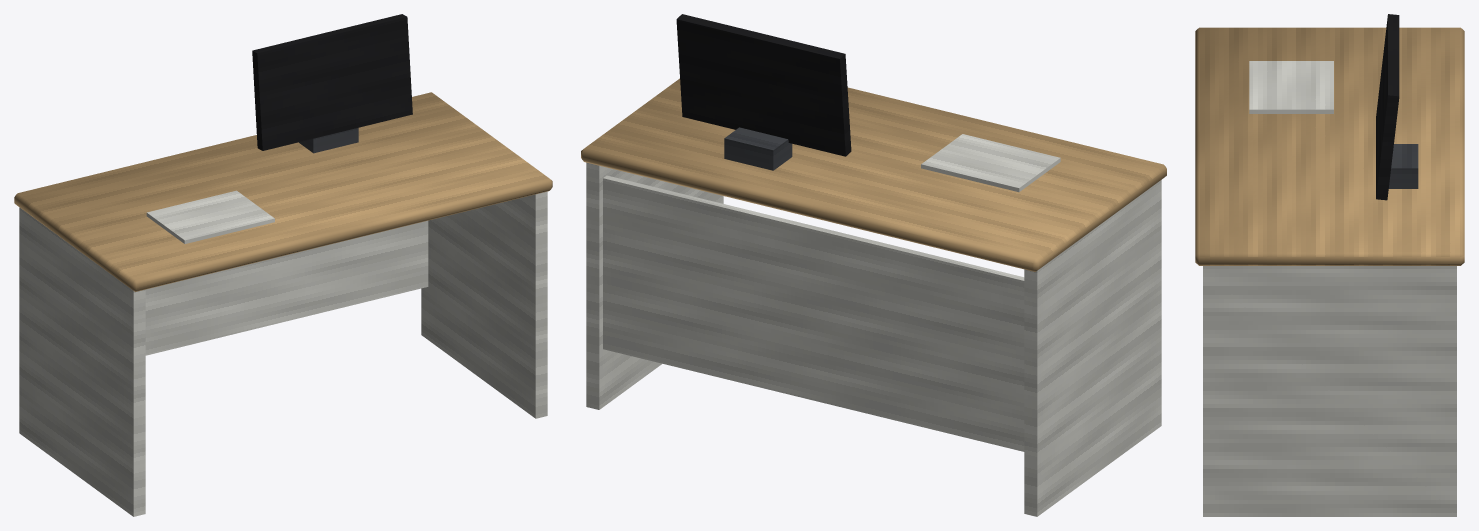
The model's file is mesa_vendedor.glb.
3 renders of one model, left to right at view 1: azimuth 30°, elevation 25°; view 2: azimuth 150°, elevation 25°; view 3: azimuth 270°, elevation 25°, orthographic. The views are drawn at different scales.
Parts seen in each view (by area): view 1: Inteiro; view 2: Inteiro; view 3: Inteiro.
Part boxes in pixels (x1=…): Inteiro: x1=14, y1=14, x2=552, y2=516; Inteiro: x1=581, y1=14, x2=1166, y2=516; Inteiro: x1=1195, y1=14, x2=1464, y2=516.
Bounding box in the file's own units: 1.4 × 1.12 × 0.7.
Materials: 1 (1 with a texture image).
